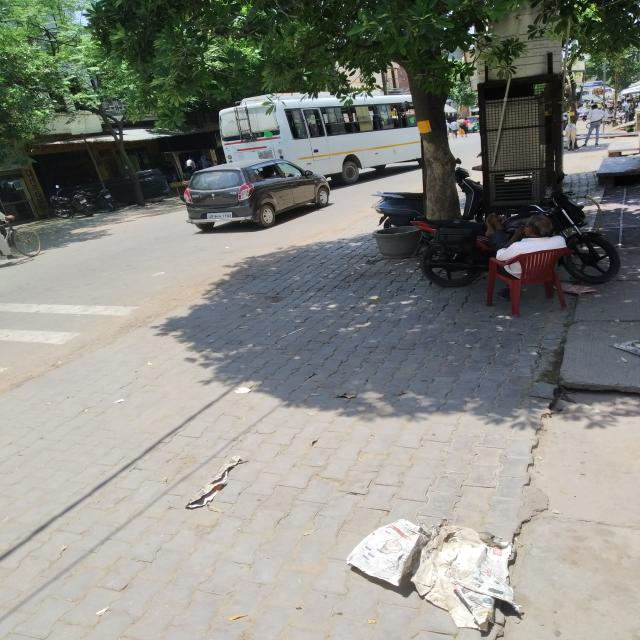Bus: (220, 94, 422, 184)
Car: (183, 160, 330, 230)
Two Wheeler: (505, 191, 620, 284), (412, 219, 495, 288), (373, 191, 425, 229), (455, 168, 483, 221)
